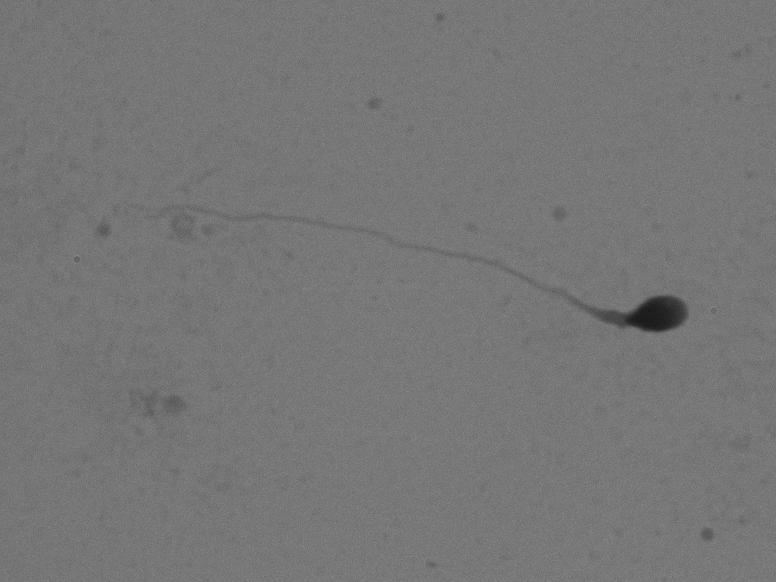Abnormal: (78, 164, 720, 368)
